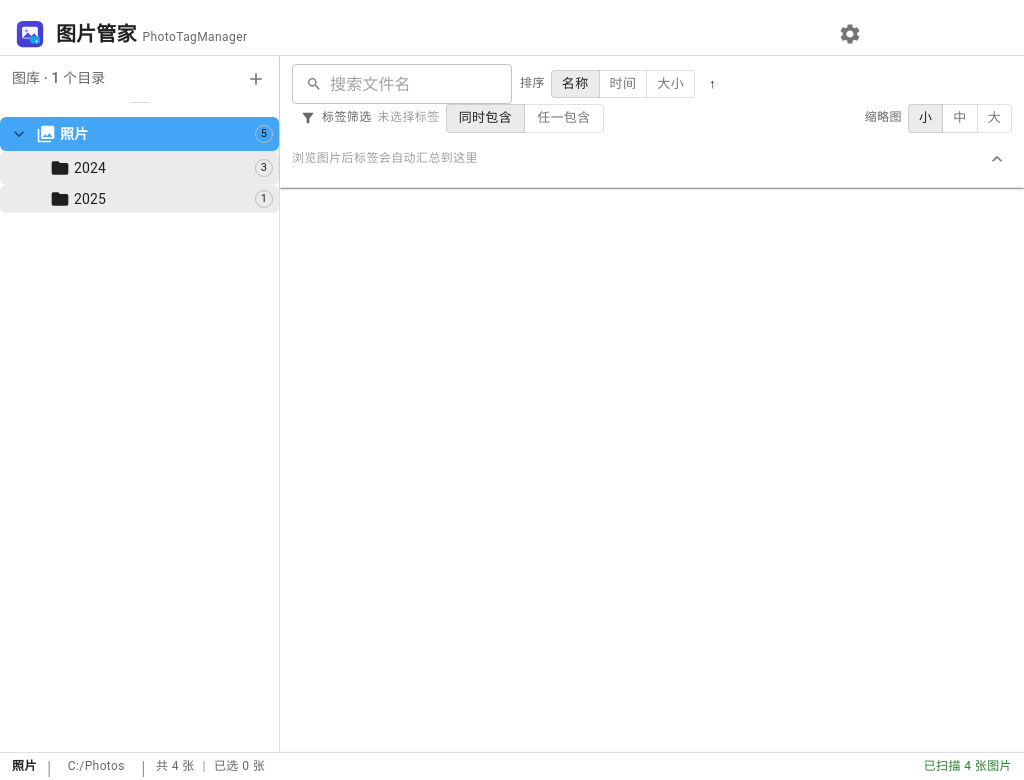
Scenario: 左栏右键菜单的「取消隐藏」区 › 目录行菜单：有「隐藏文件夹」，不出现改别名与删除目录
Right-click the list item named "2024，" at [140, 168], box x1=0 y1=151 x2=279 y2=185
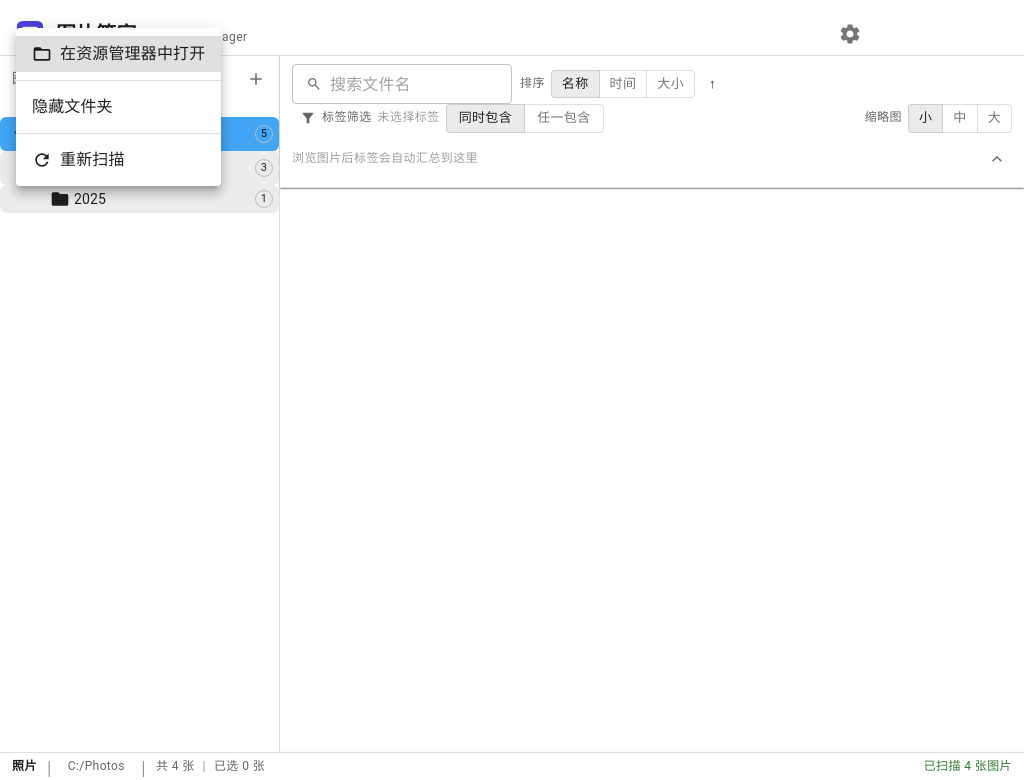
Now the menu item "隐藏文件夹" is shown, box x1=32 y1=97 x2=113 y2=116
